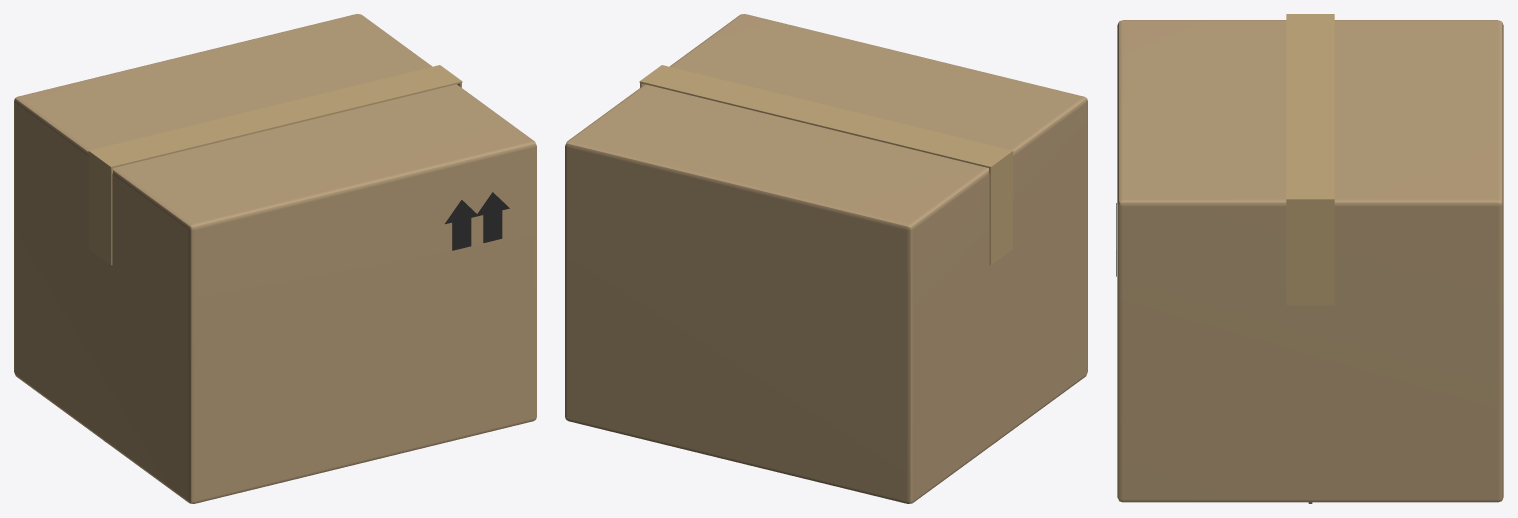
File: box_cardboard.glb
3 renders of one model, left to right at view 1: azimuth 30°, elevation 25°; view 2: azimuth 150°, elevation 25°; view 3: azimuth 270°, elevation 25°, orthographic. The views are drawn at different scales.
Visible parts, largest first — view 1: SM_box_cardboard; view 2: SM_box_cardboard; view 3: SM_box_cardboard.
Part boxes in pixels (x1,y1,x2,y2): SM_box_cardboard: [14, 14, 536, 503]; SM_box_cardboard: [565, 14, 1087, 503]; SM_box_cardboard: [1116, 14, 1503, 503].
Size of the model in its own units: 0.454 by 0.351 by 0.4011.
